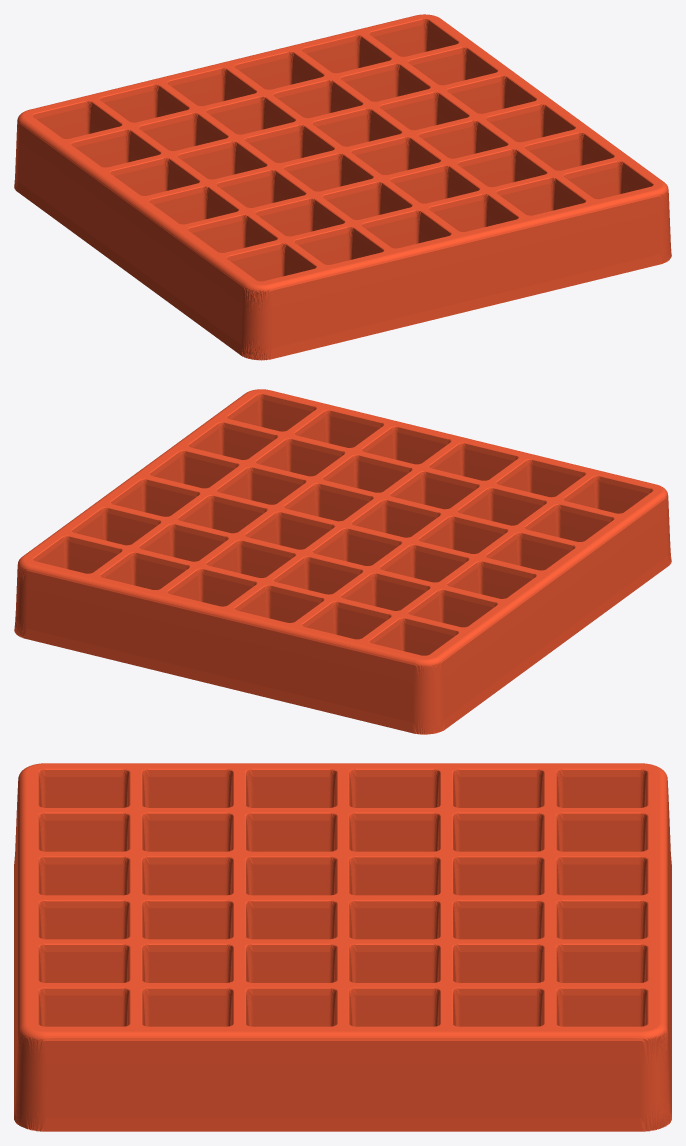
Rendered from mold.glb.
3 views of the same model, one above another, from view 1: azimuth 30°, elevation 25°; view 2: azimuth 150°, elevation 25°; view 3: azimuth 270°, elevation 25° (orthographic). The views are drawn at different scales.
Visible parts, largest first — view 1: geometry_0; view 2: geometry_0; view 3: geometry_0.
Part boxes in pixels (x1,y1,x2,y2): geometry_0: [14, 14, 671, 360]; geometry_0: [14, 389, 671, 734]; geometry_0: [14, 763, 671, 1131].
Bounding box in the file's own units: 0.1877 × 0.0299 × 0.1877.
